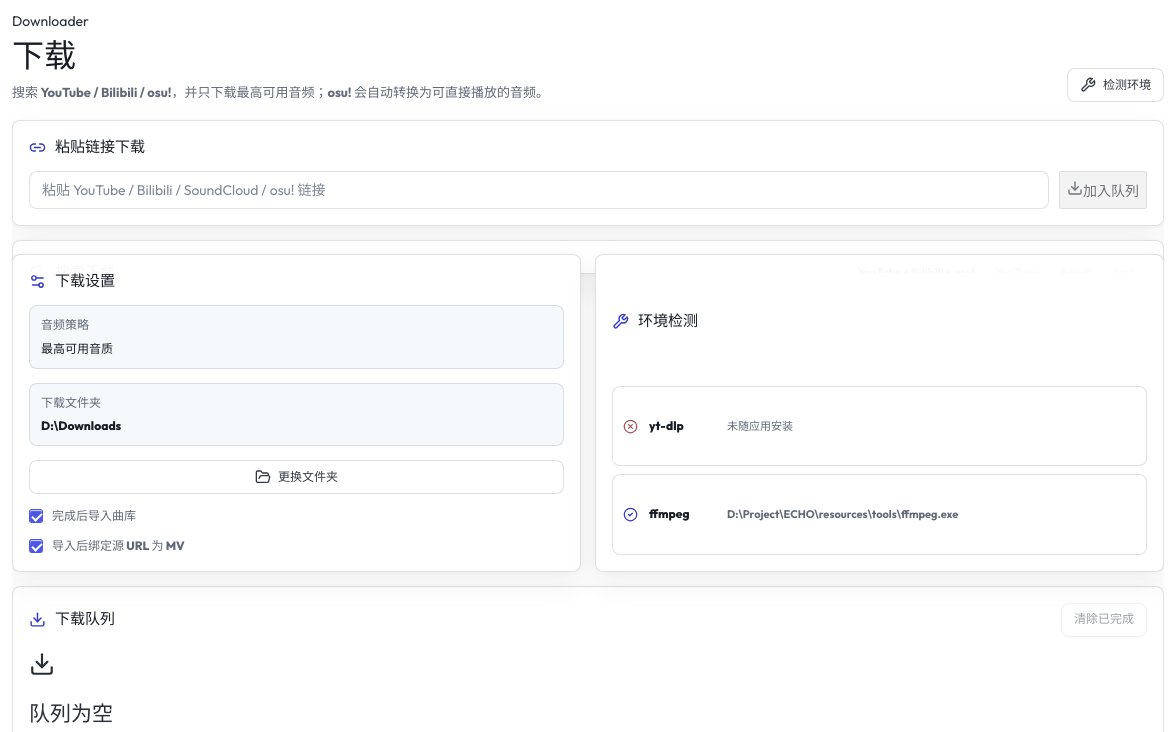
Scenario: DownloadsPage › shows a job after creating a URL download
The width and height of the screenshot is (1176, 732).
Type "https://www.youtube.com/watch?v=echo" into the field with placeholder "粘贴 YouTube / Bilibili / SoundCloud / osu! 链接" at (539, 190), box [29,171,1049,209]
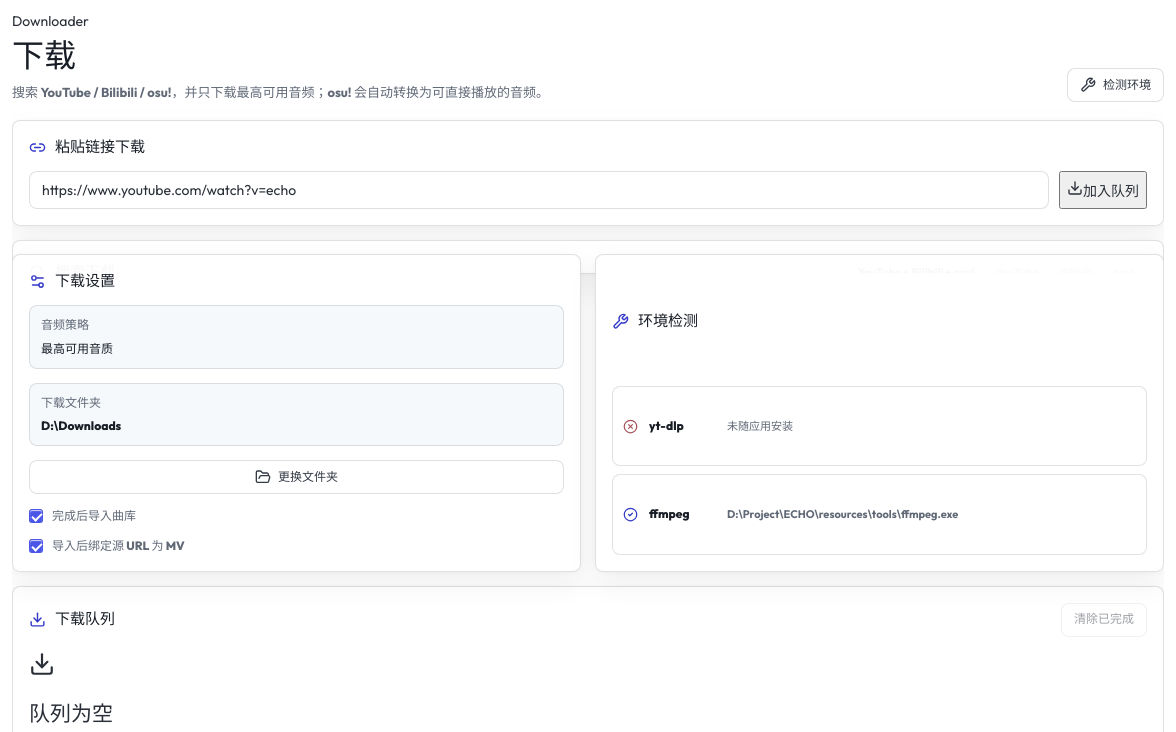
Click the button "加入队列" at (1103, 190), box [1059,171,1147,209]
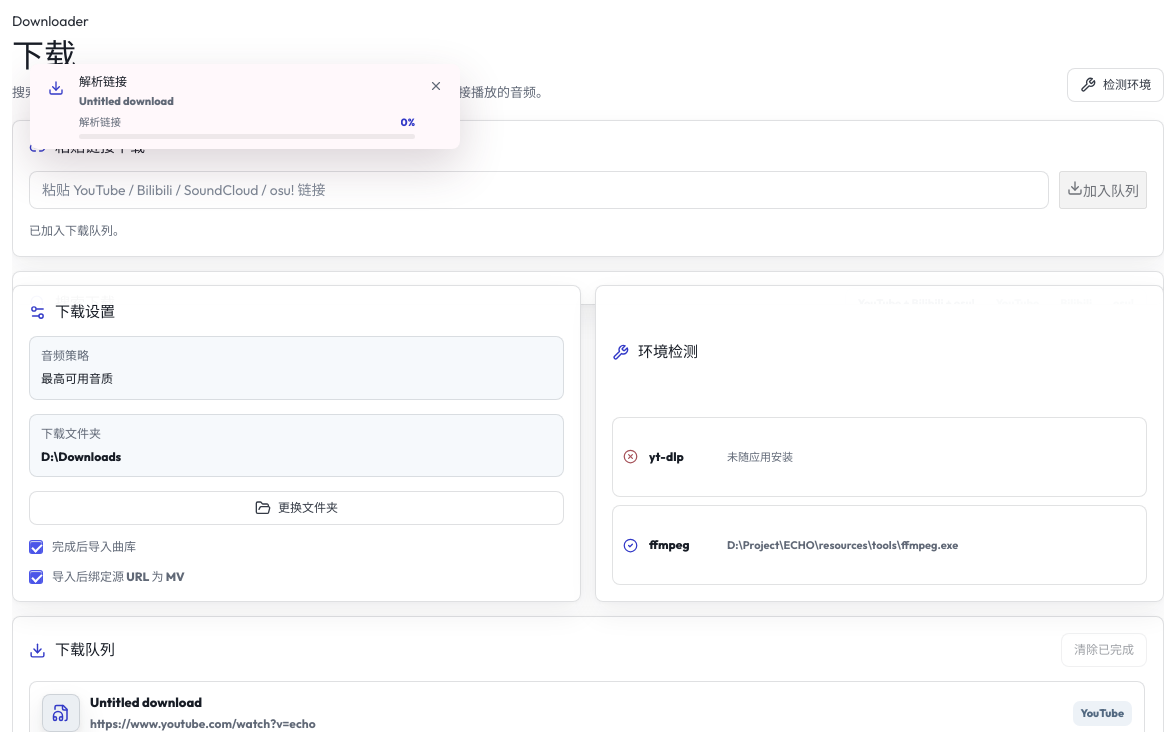
expect the 1st text "Untitled download" is shown: met, box [79,94,174,108]
expect the text "https://www.youtube.com/watch?v=echo" is shown: met, box [90,716,316,731]
